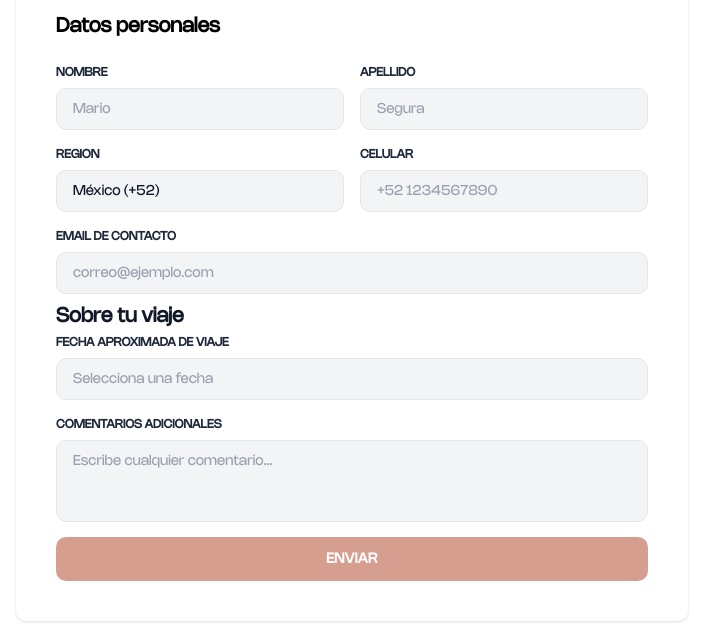
Test: Contacto Form Component › 3. should clean and validate name field - reject special characters
Type name with special characters
Type "Juan@#$%123" into the field with placeholder "Mario" at (200,108), box left=56, top=88, right=344, bottom=130
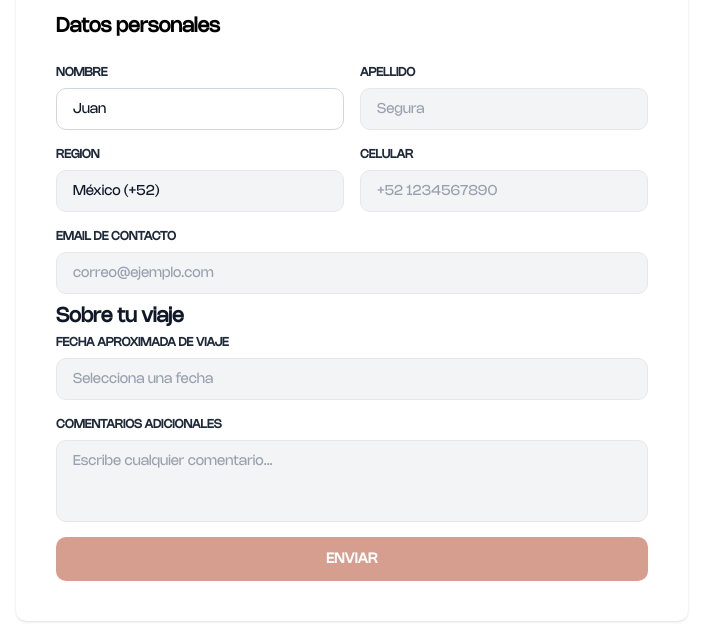
Expected: the field with placeholder "Mario" holds "Juan", left=56, top=88, right=344, bottom=130
